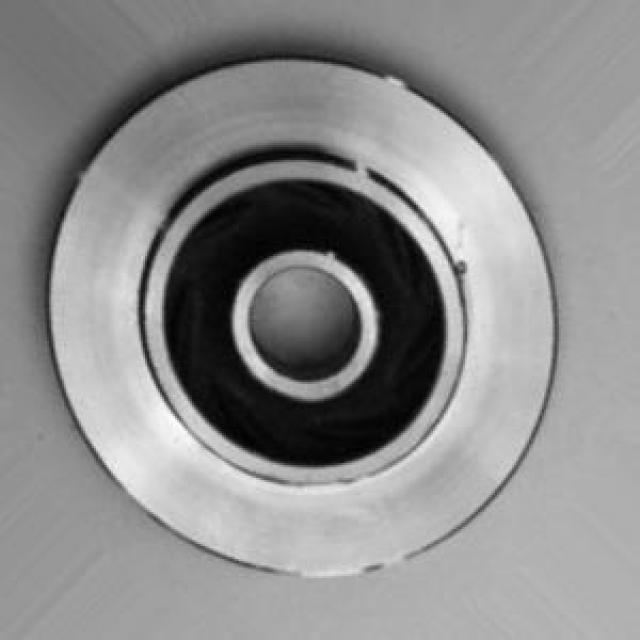Defect: (452, 251, 480, 284)
